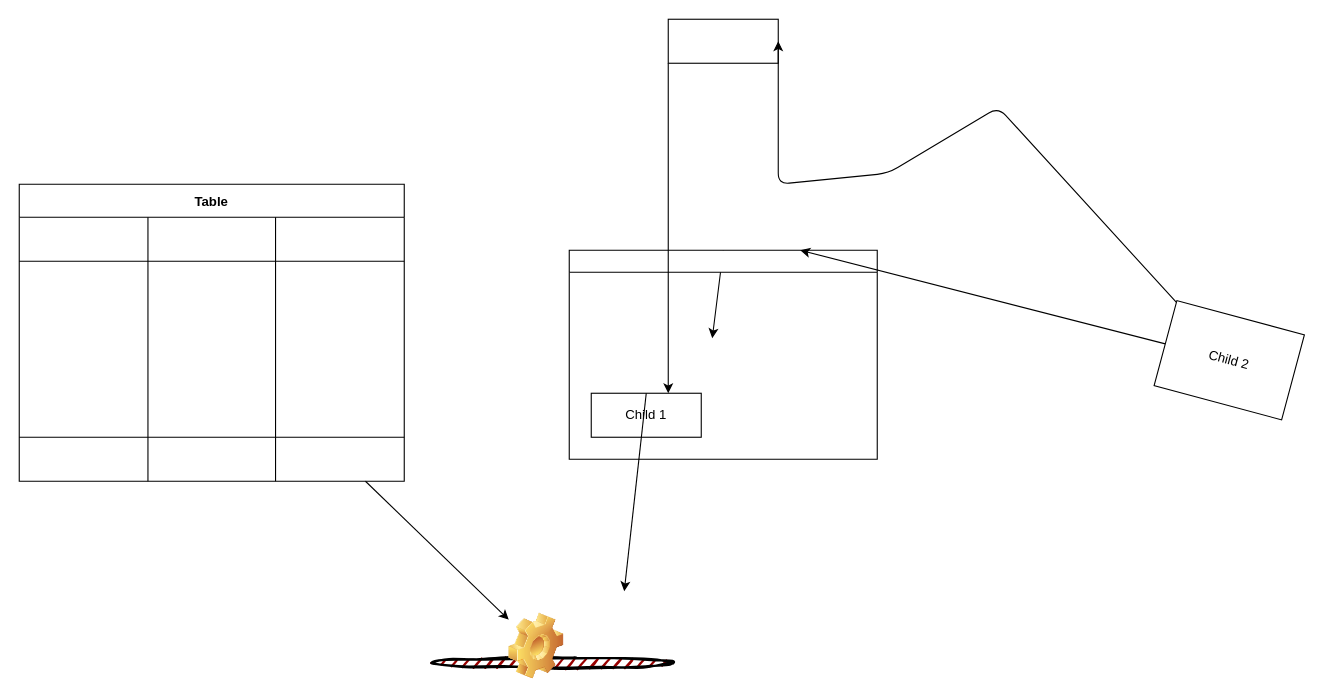
This 1324x699 diagram has some shape labels left out. The box of each missing label's shape, as (x1, y1, x2, y2) in pixels:
Root: (667, 18, 778, 63)
Vertical Tree Layout: (568, 249, 877, 459)
